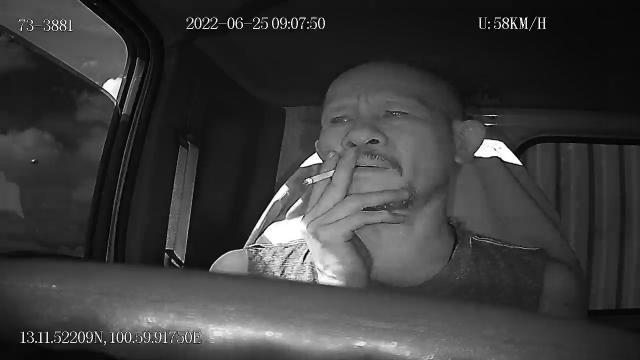SafeDriving: (374, 98, 421, 127), (322, 105, 361, 131)
Smoking: (304, 168, 338, 188)
